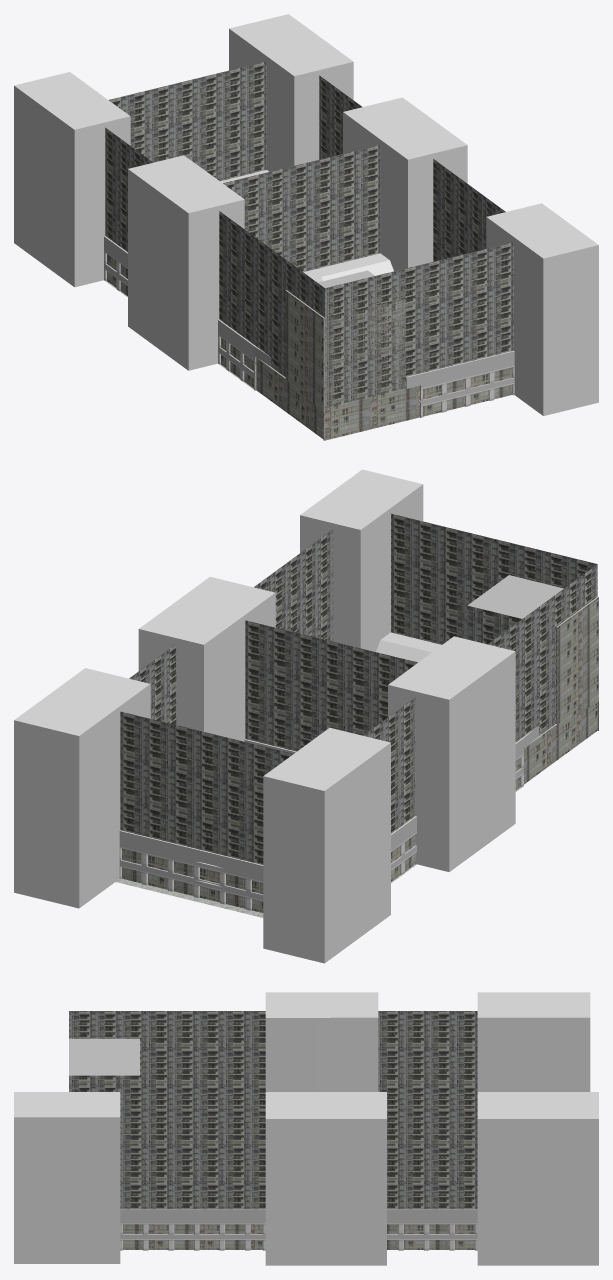
File: APARTMENTS 1.fbx
3 views of the same model, one above another, from view 1: azimuth 30°, elevation 25°; view 2: azimuth 150°, elevation 25°; view 3: azimuth 270°, elevation 25° (orthographic). The views are drawn at different scales.
Visible parts, largest first — view 1: OUTER CORNER BUILDINGS, APARTMENTS, INNER BUILDING, ROOF, ARCHS; view 2: OUTER CORNER BUILDINGS, APARTMENTS, INNER BUILDING, ROOF, ARCHS, CONCRETE GROUND; view 3: OUTER CORNER BUILDINGS, APARTMENTS, INNER BUILDING, ARCHS, ROOF, CONCRETE CEILING.
Boxes of the visible parts, x1,y1,x2,y2 form: OUTER CORNER BUILDINGS: (14, 14, 598, 415); APARTMENTS: (105, 61, 513, 440); INNER BUILDING: (255, 270, 419, 440); ROOF: (104, 170, 514, 388); ARCHS: (104, 248, 514, 417); OUTER CORNER BUILDINGS: (14, 469, 515, 963); APARTMENTS: (120, 513, 597, 912); INNER BUILDING: (467, 575, 598, 747); ROOF: (119, 632, 539, 877); ARCHS: (119, 750, 523, 910); CONCRETE GROUND: (116, 787, 521, 917); OUTER CORNER BUILDINGS: (14, 992, 598, 1265); APARTMENTS: (69, 1011, 477, 1249); INNER BUILDING: (69, 1038, 139, 1108); ARCHS: (120, 1220, 477, 1250); ROOF: (120, 1209, 477, 1220); CONCRETE CEILING: (120, 1234, 477, 1236).
Size of the model in its own units: 106 by 62.77 by 206.
